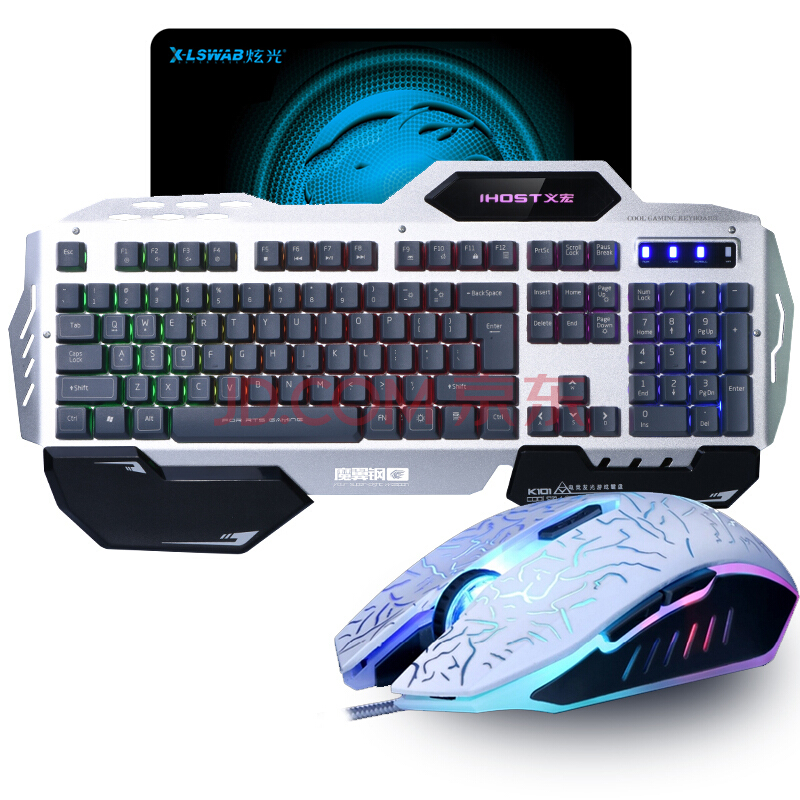keyboard: (15, 163, 795, 556)
mouse: (336, 492, 798, 718)
